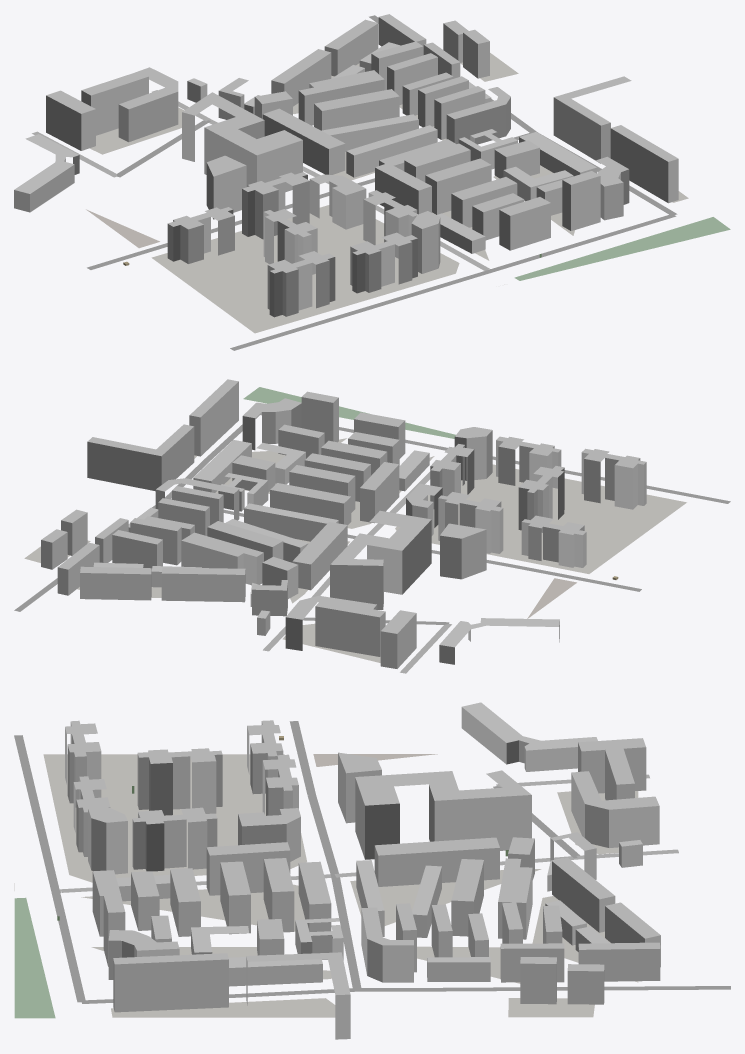
3 views of the same model, one above another, from view 1: azimuth 30°, elevation 25°; view 2: azimuth 150°, elevation 25°; view 3: azimuth 270°, elevation 25° (orthographic). The views are drawn at different scales.
Bounding box in the file's own units: 605 × 48.67 × 575.
